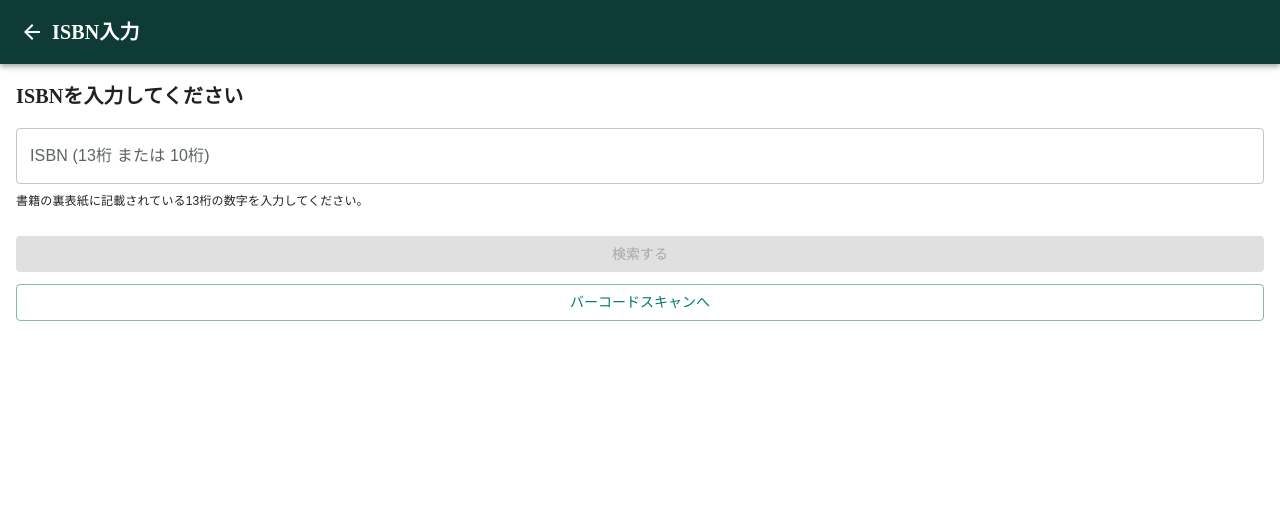
IsbnInputPage › 末尾Xを含むISBN-10入力後の遷移でXが保持される
The width and height of the screenshot is (1280, 512).
小文字 x で入力しても大文字 X に正規化されて遷移する。
Type "080442957x" into the field at (640, 156), box x1=16 y1=128 x2=1264 y2=184
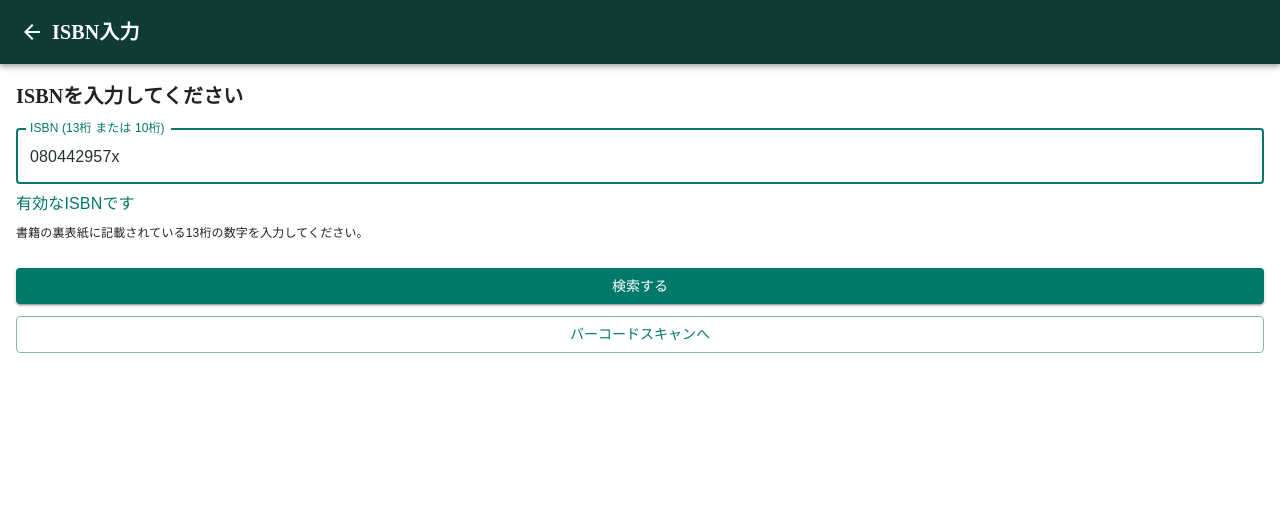
Click the button "検索する" at (640, 286), box x1=16 y1=268 x2=1264 y2=304
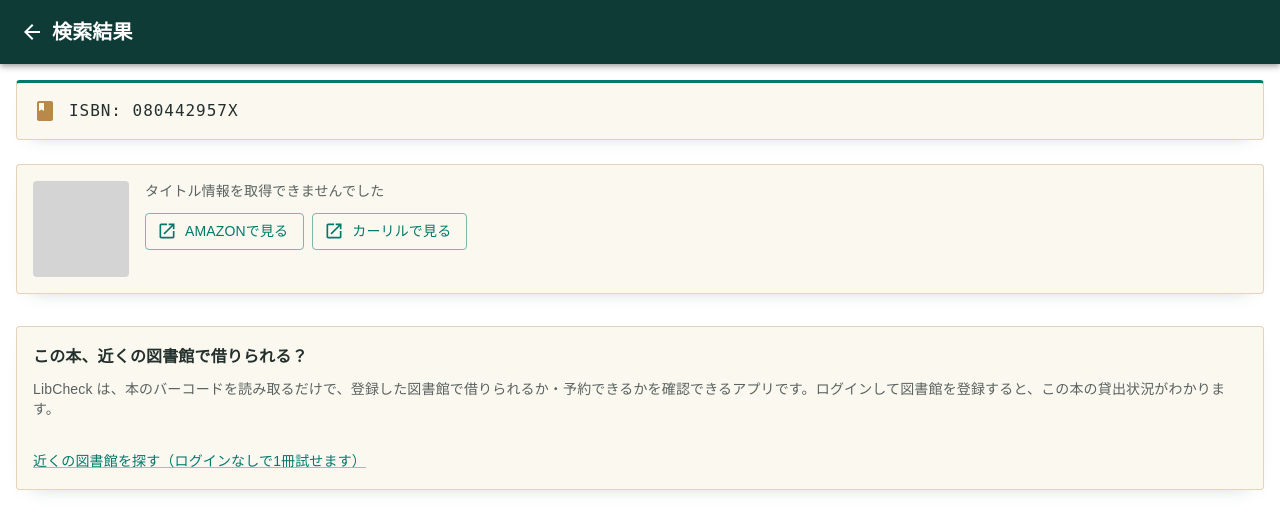
Check: the text "ISBN: 080442957X" is shown, box x1=69 y1=99 x2=238 y2=123
